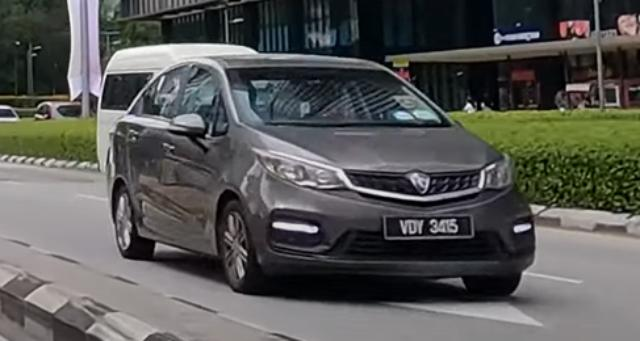License_Plate: (381, 213, 475, 243)
car: (105, 51, 537, 298)
